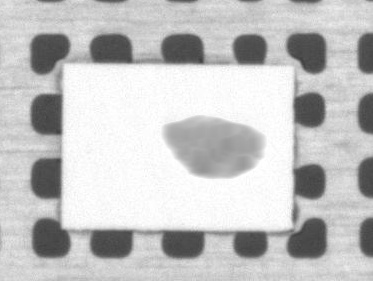DIE_INK: (156, 110, 267, 184)
